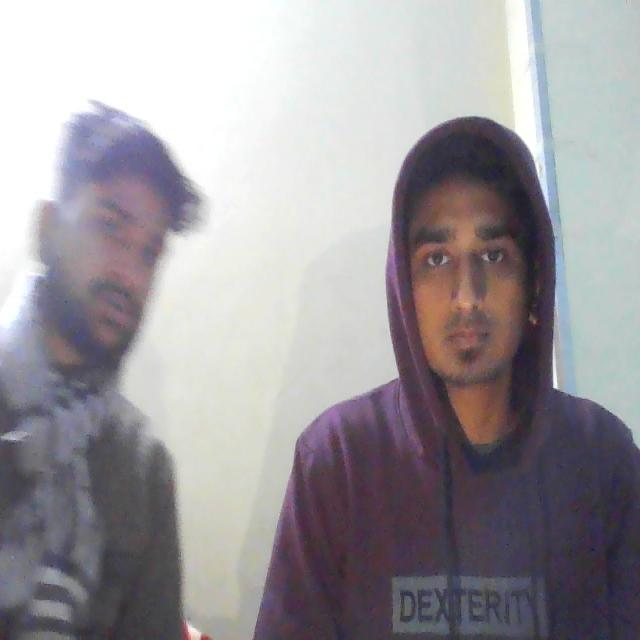real: (395, 117, 551, 412), (34, 91, 179, 364)
